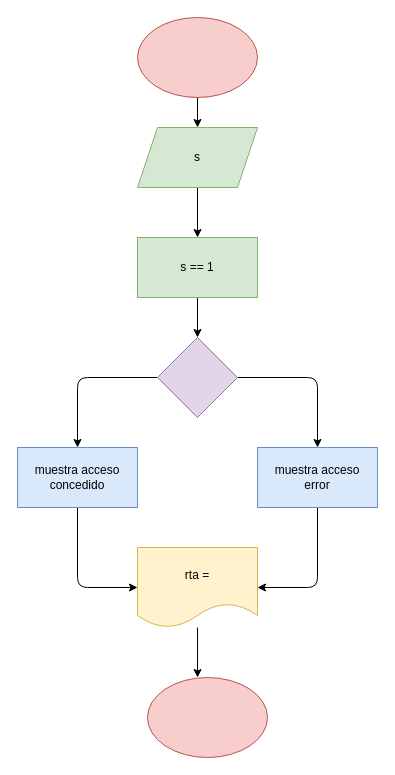
Image size: 395x775. Some labels were removed from this diagram. The centre of each missing label's shape, as x and y in pixels:
fin: [207,717]
inicio: [197,57]
python123: [197,377]
